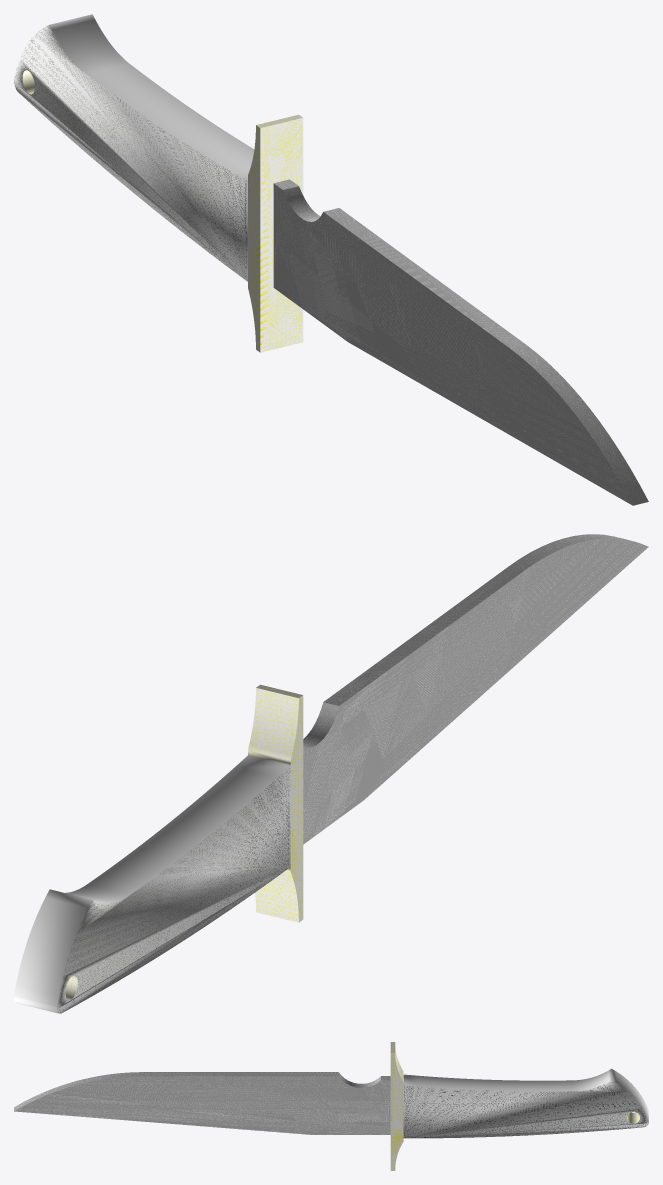
Rendered from model_scale.obj.
3 renders of one model, top to bottom at view 1: azimuth 30°, elevation 25°; view 2: azimuth 150°, elevation 25°; view 3: azimuth 270°, elevation 25°, orthographic. The views are drawn at different scales.
Parts seen in each view (by area): view 1: mesh1_mesh1-geometry; view 2: mesh1_mesh1-geometry; view 3: mesh1_mesh1-geometry.
Part boxes in pixels (box(x1,y1,x2,y2)): mesh1_mesh1-geometry: box(14, 14, 648, 505); mesh1_mesh1-geometry: box(14, 534, 648, 1013); mesh1_mesh1-geometry: box(14, 1042, 648, 1170).
Bounding box in the file's own units: 0.00852 × 0.0426 × 0.2081.
